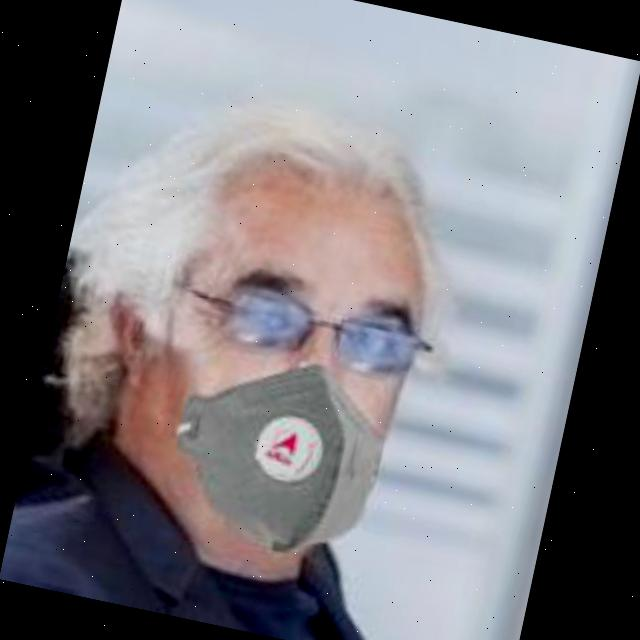suspicion: (72, 70, 500, 576)
